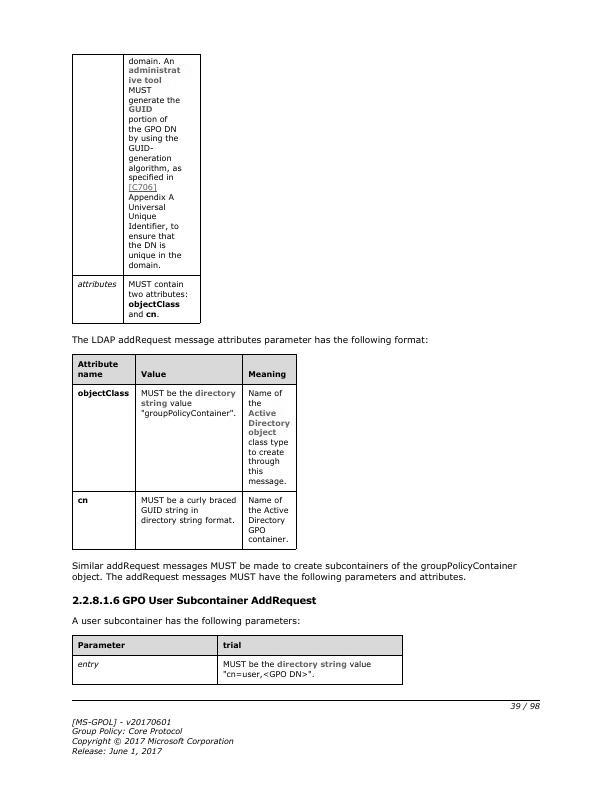table: (72, 354, 297, 551), (73, 55, 202, 325), (73, 635, 403, 684)
text: (69, 558, 519, 582), (70, 714, 237, 756), (71, 332, 430, 347), (70, 594, 318, 607), (71, 615, 304, 627)
